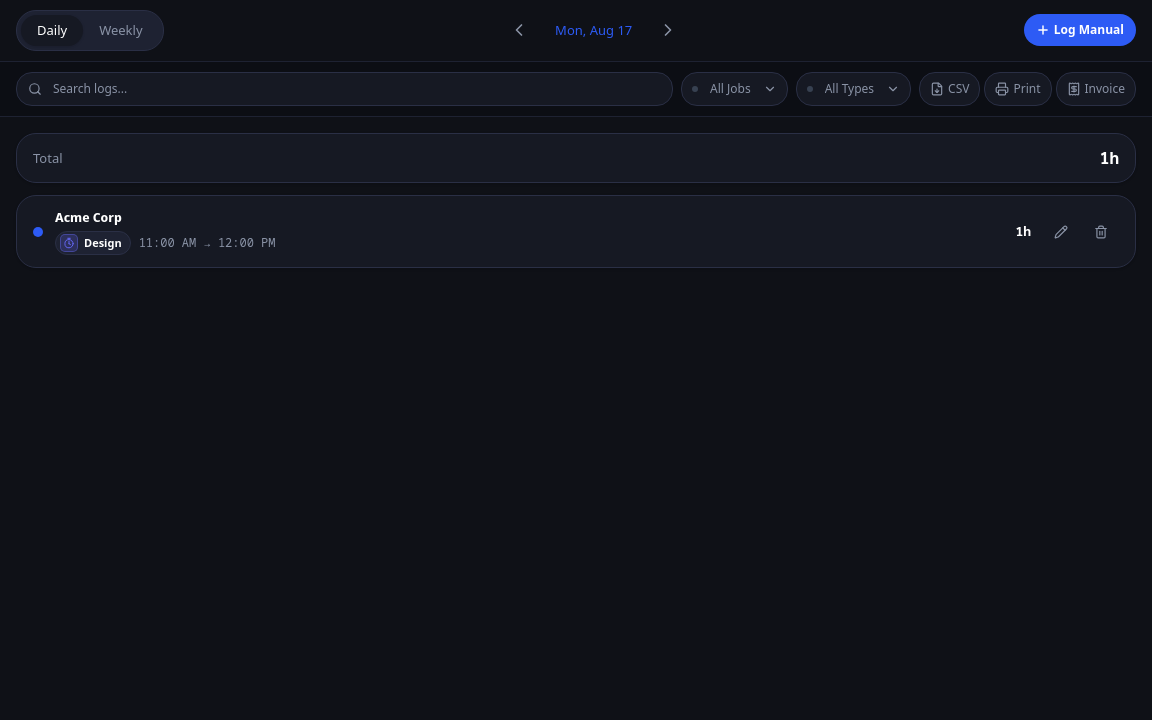
Test case: TimesheetsView — delete entry flow › shows ConfirmModal when the delete button is clicked
Click the button named "delete entry for acme corp": (1101, 232) [1083,214,1119,250]
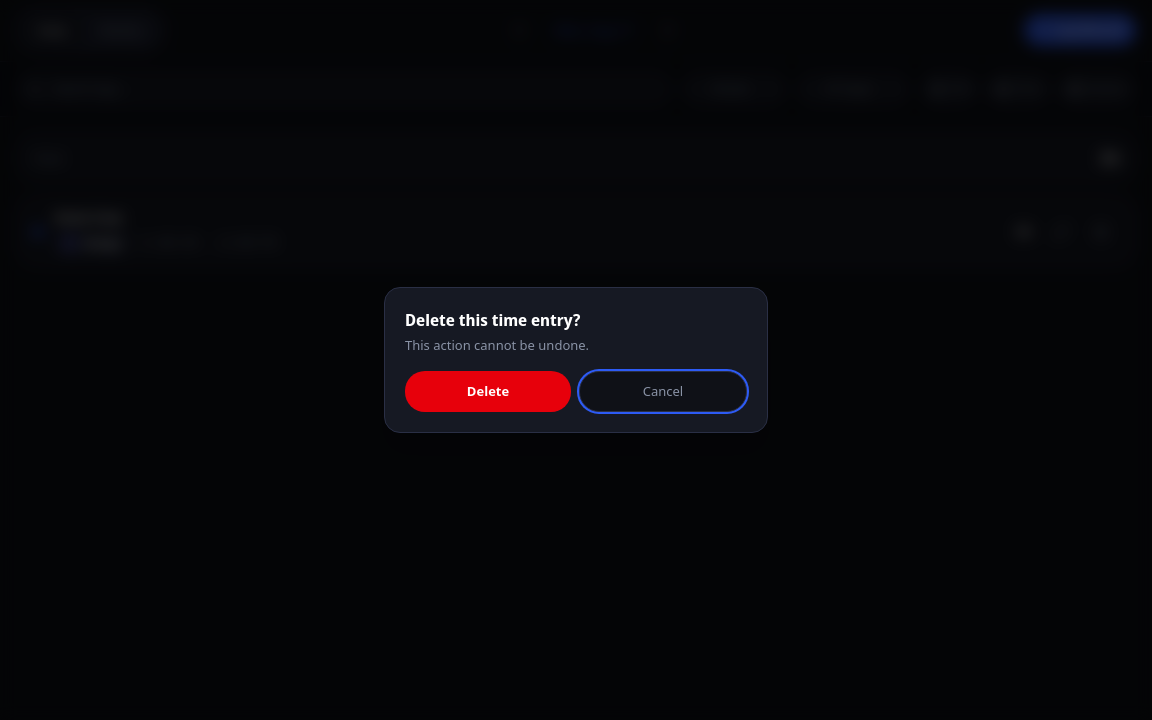
Result: the dialog is shown at [384,287,768,432]
Result: the text "Delete this time entry?" is shown at [405,309,580,331]
